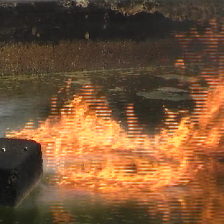fire_h: (8, 70, 223, 221)
